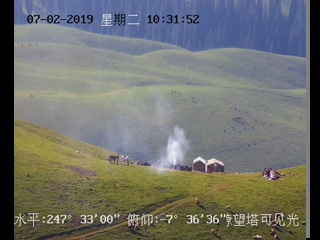smoke: (106, 96, 190, 171)
